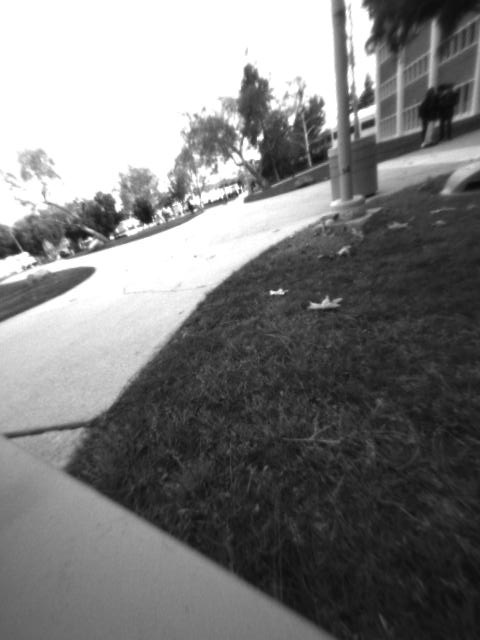trashcan: (327, 131, 381, 201)
